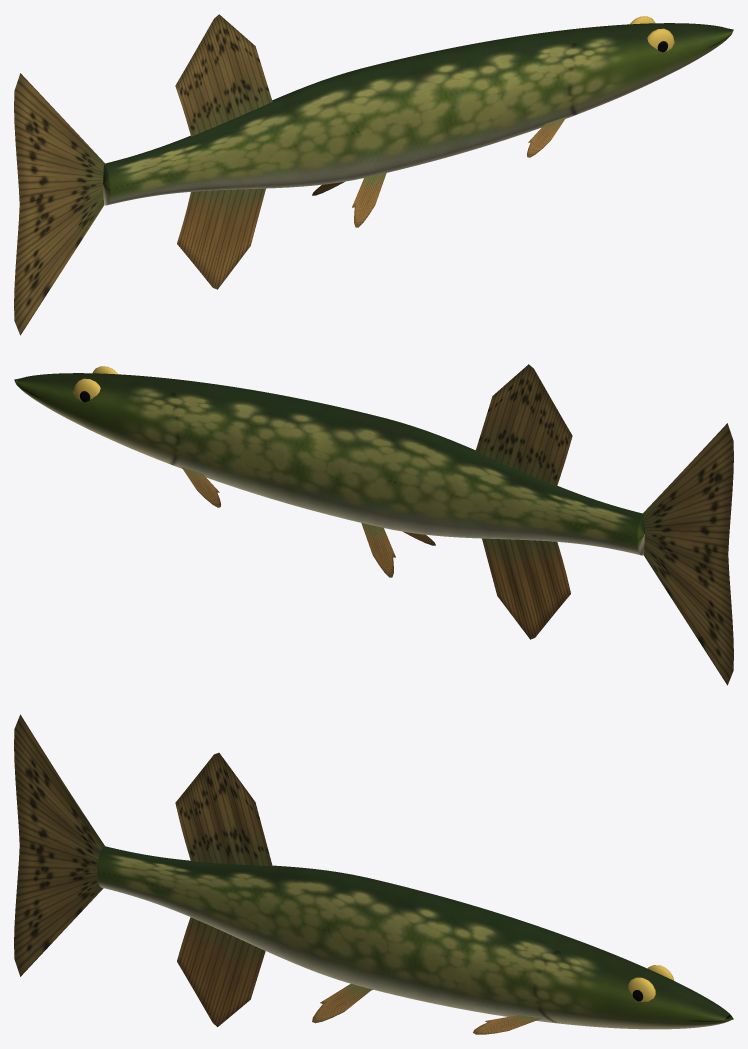
File: fish_pike.gltf
3 renders of one model, top to bottom at view 1: azimuth 30°, elevation 25°; view 2: azimuth 150°, elevation 25°; view 3: azimuth 330°, elevation 25°, orthographic.
Visible parts, largest first — view 1: fish_pike; view 2: fish_pike; view 3: fish_pike.
Part boxes in pixels (box(x1,y1,x2,y2)): fish_pike: box(14, 14, 733, 335); fish_pike: box(14, 364, 733, 685); fish_pike: box(14, 714, 733, 1034).
Bounding box in the file's own units: 0.7394 × 0.27 × 0.097.
Materials: 6 (4 with a texture image).
